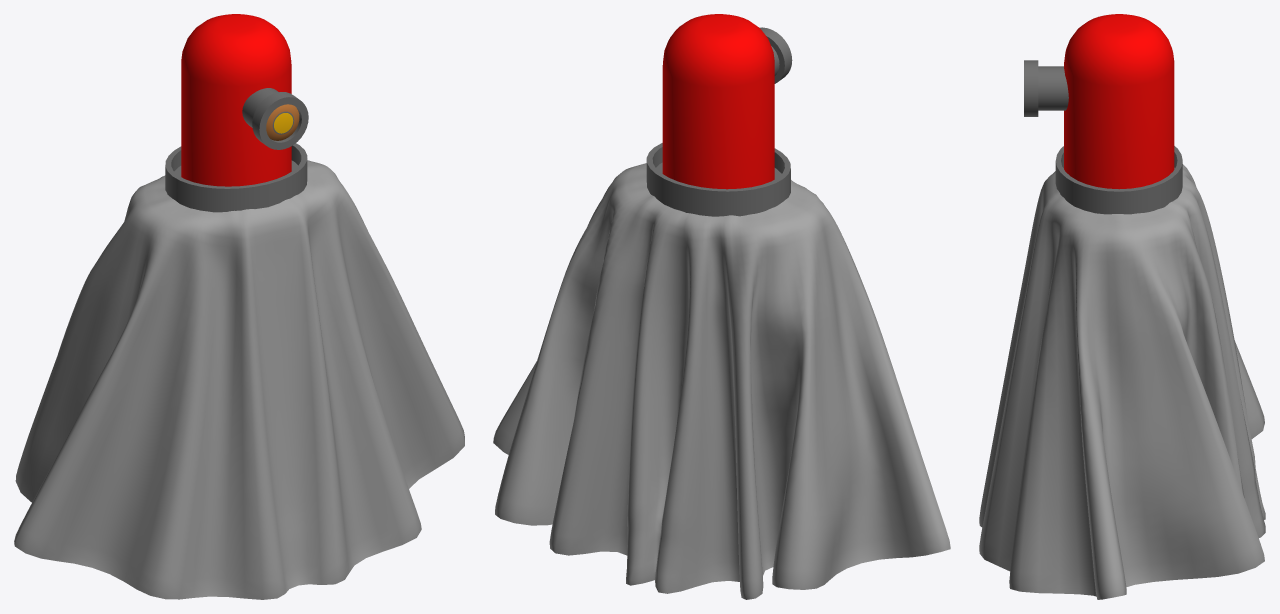
Rendered from EvilChar.fbx.
The picture shows the model from 3 angles, left to right: view 1: azimuth 30°, elevation 25°; view 2: azimuth 150°, elevation 25°; view 3: azimuth 270°, elevation 25°; orthographic projection.
Visible parts, largest first — view 1: Cylinder.002, Cylinder, Cylinder.001; view 2: Cylinder.002, Cylinder, Cylinder.001; view 3: Cylinder.002, Cylinder, Cylinder.001.
Boxes of the visible parts, x1,y1,x2,y2 form: Cylinder.002: (14,160,464,599); Cylinder: (165,14,307,212); Cylinder.001: (242,88,308,149); Cylinder.002: (493,163,950,599); Cylinder: (646,14,790,216); Cylinder.001: (760,27,792,83); Cylinder.002: (979,164,1265,599); Cylinder: (1055,14,1182,214); Cylinder.001: (1024,60,1068,116).
Size of the model in its own units: 169 by 185 by 93.02.
